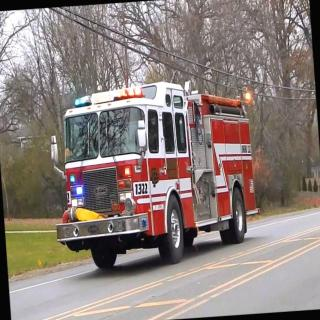Fire_truck: (46, 74, 264, 273)
